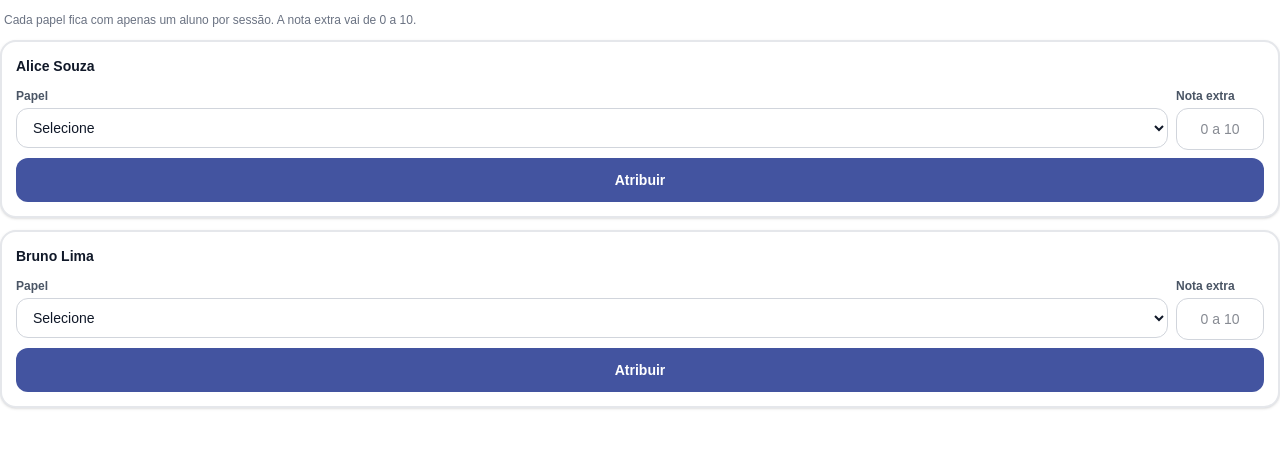
Test: [US10] SessionRoleList › Deve bloquear a atribuição quando a nota extra está em branco
Step 1. Select "Coordenador" in the dropdown labelled "Papel" below "Bruno Lima" → (592, 318), box [16,298,1168,338]
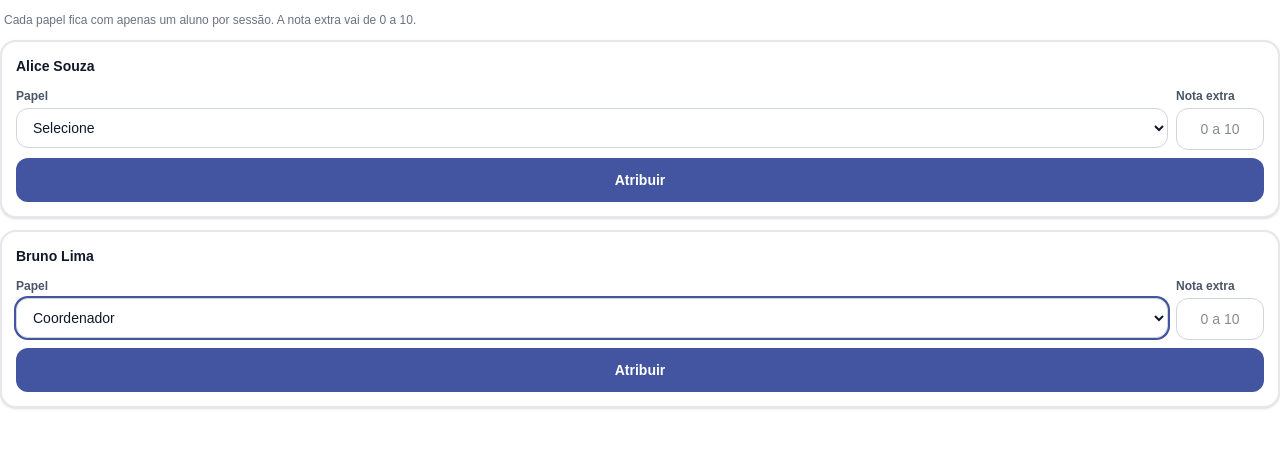
Step 2. Clear the 2nd field labelled "Nota extra" → (1220, 319), box [1176,298,1264,340]
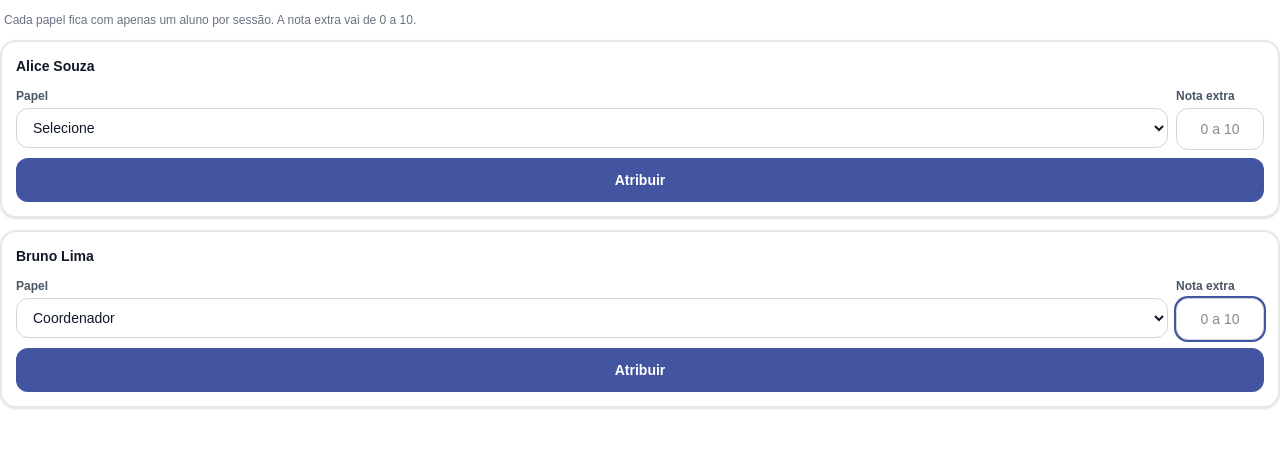
Step 3. Click the button "Atribuir" below "Bruno Lima" → (640, 370), box [16,348,1264,392]
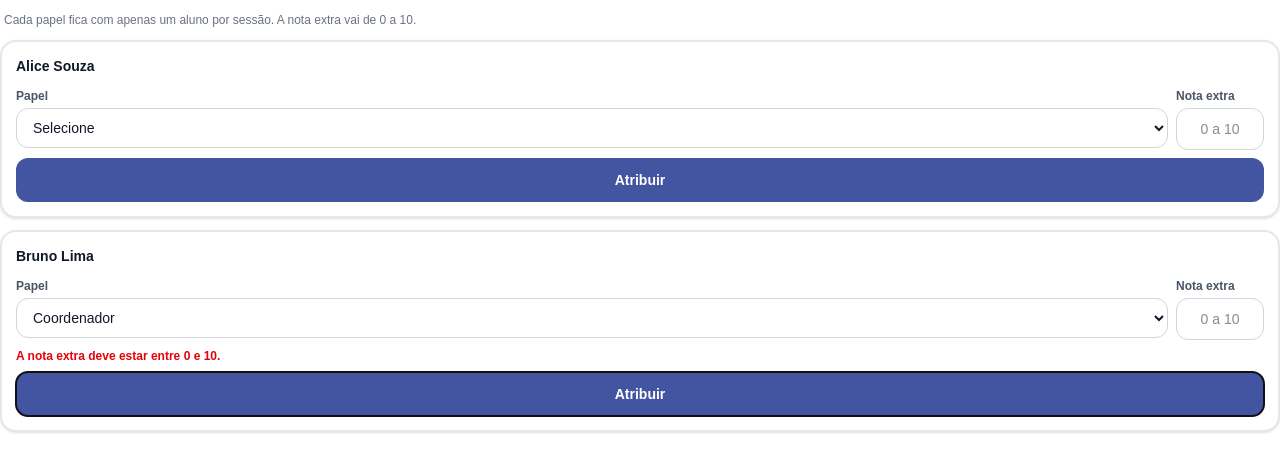
expect the message shows "nota extra deve estar entre 0 e 10": met, box [16,349,220,363]
